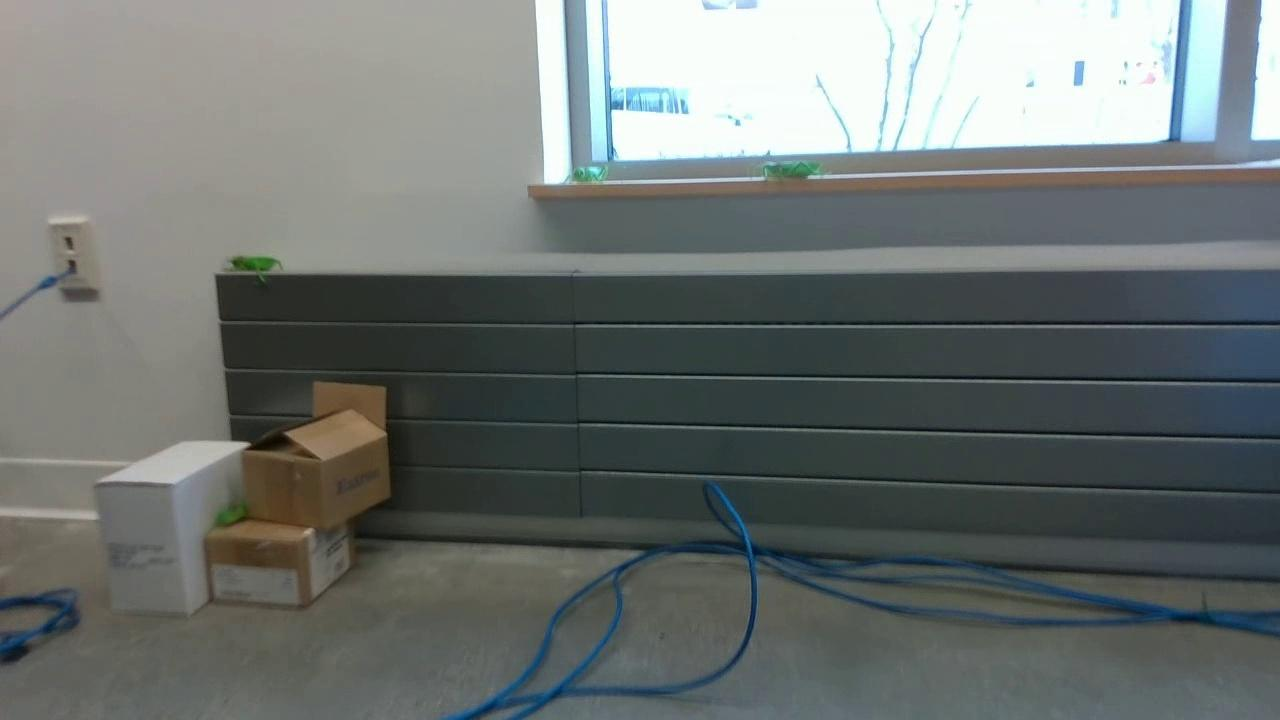grasshopper: (742, 149, 837, 188), (220, 246, 286, 285), (562, 161, 620, 194), (203, 504, 265, 528)
